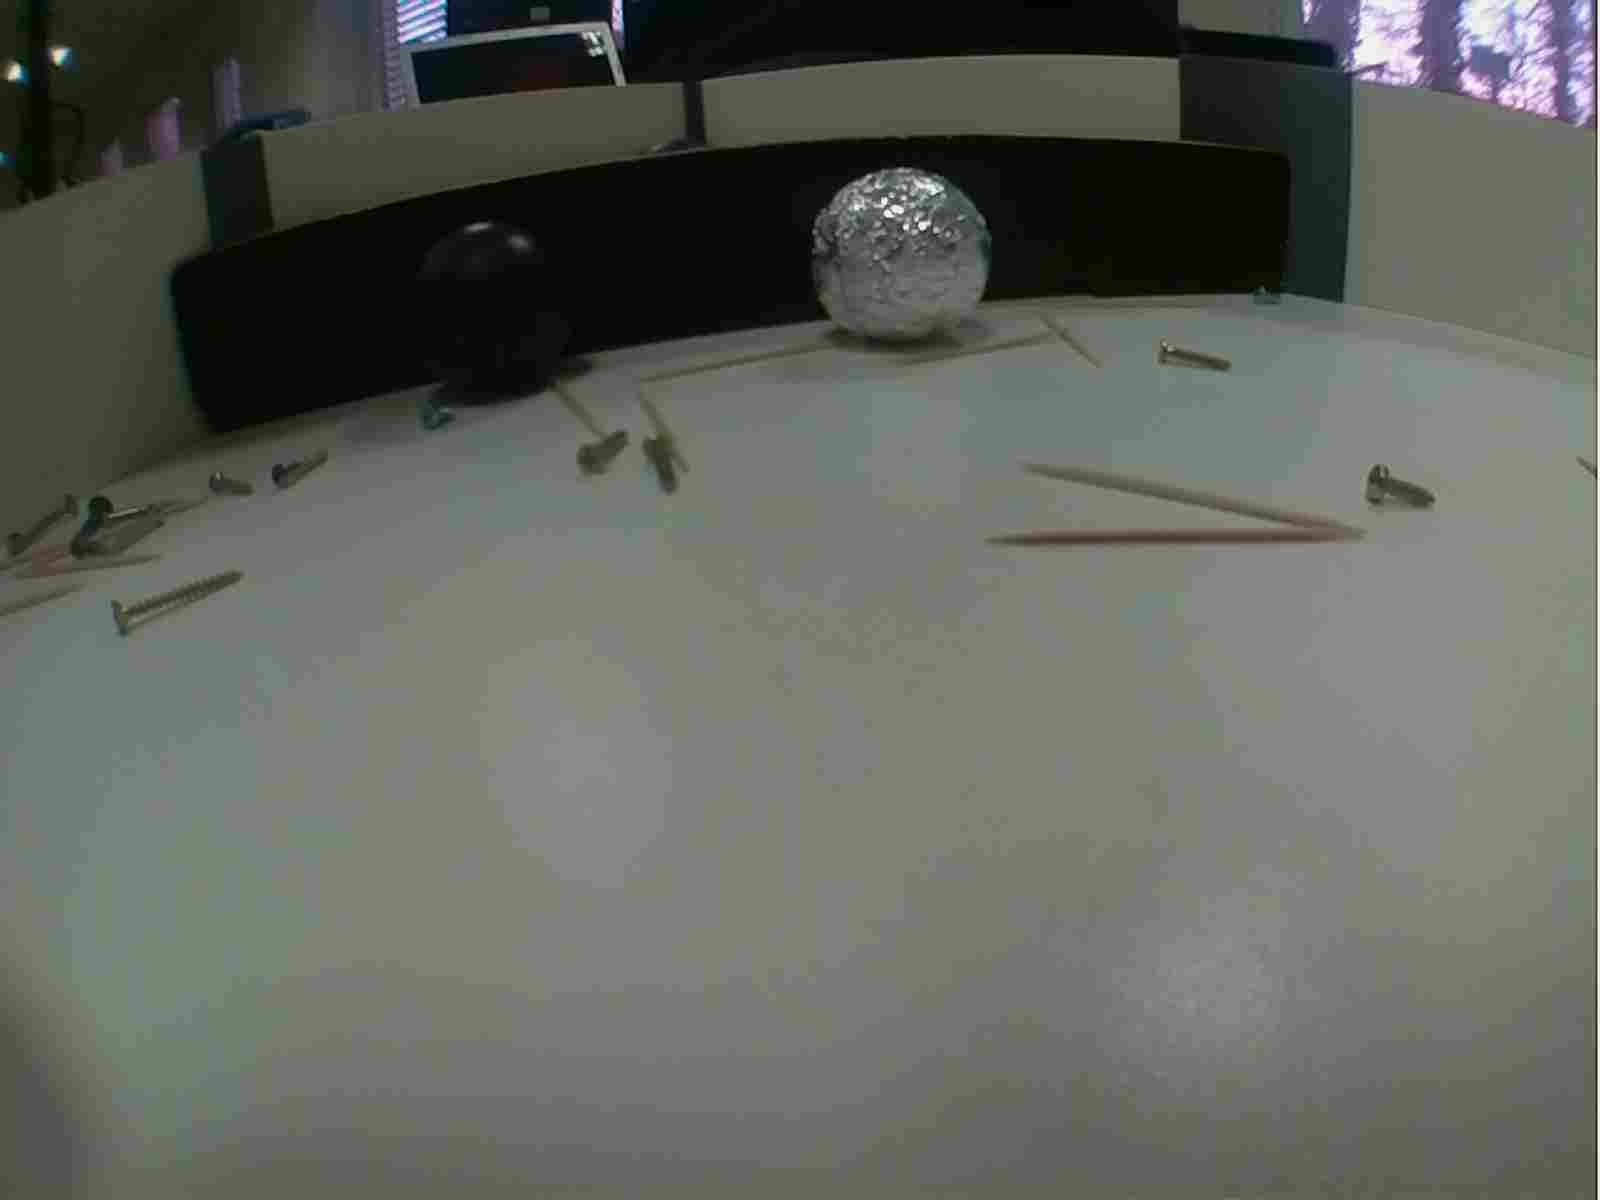bianca: (808, 161, 997, 354)
nera: (407, 214, 593, 416)
